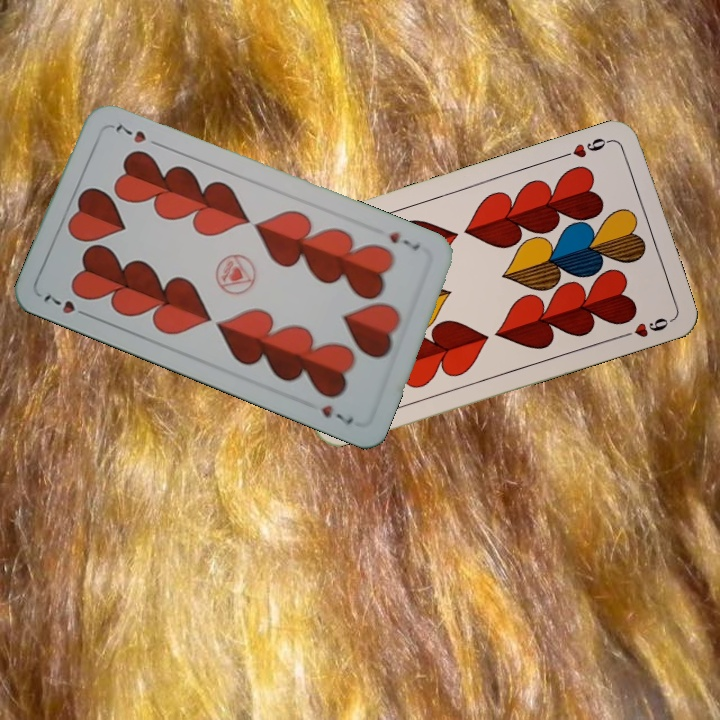H7: (39, 289, 94, 321), (385, 227, 423, 254)
H9: (557, 134, 615, 161)
